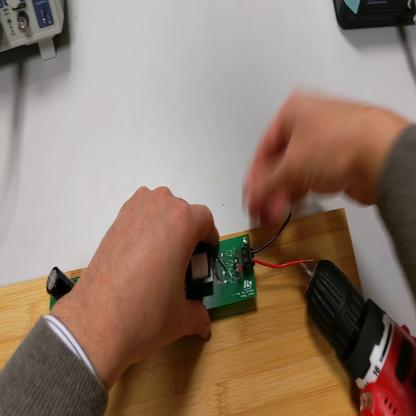electric screwdriver: (298, 258, 416, 416)
hand: (84, 184, 219, 364), (245, 87, 368, 225)
high voltage board: (50, 208, 323, 314)
oscilloscope: (2, 2, 67, 64)
welder station: (333, 2, 416, 32)
working area: (2, 209, 378, 416)
